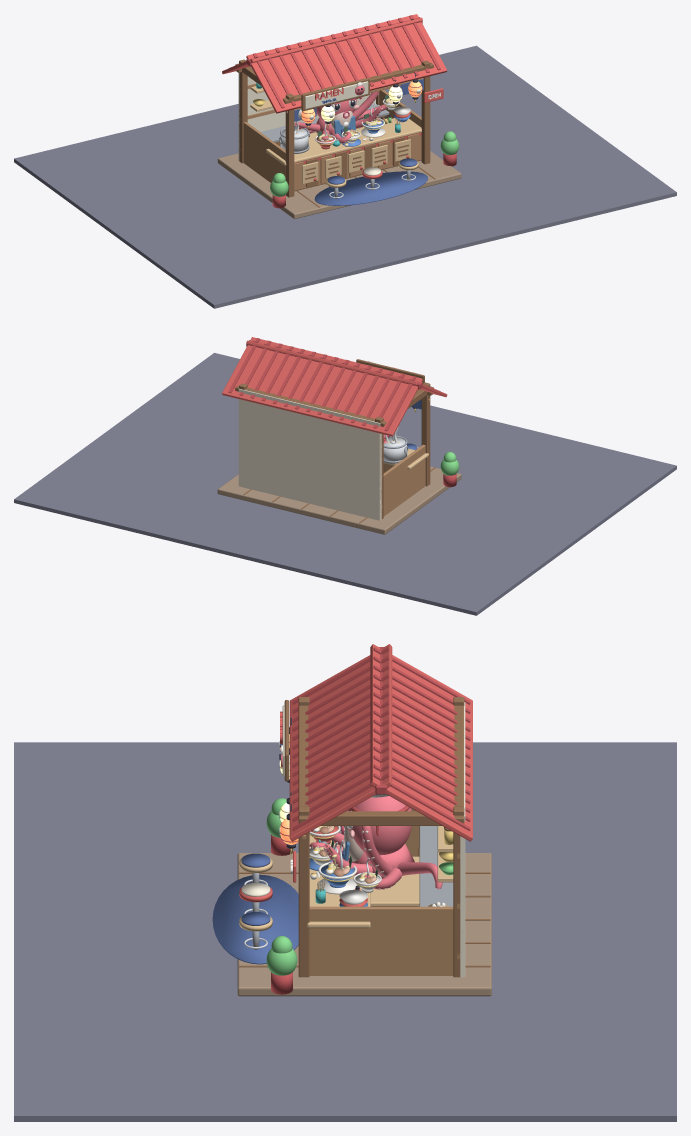
The model's file is octopus_ramen_booth.glb.
The picture shows the model from 3 angles, top to bottom: view 1: azimuth 30°, elevation 25°; view 2: azimuth 150°, elevation 25°; view 3: azimuth 270°, elevation 25°; orthographic projection. The views are drawn at different scales.
Parts seen in each view (by area): view 1: Ground, RoofFront, Platform, FrontMat, SideWallL, CounterTop, BackWall, RoofBack, Post0, Post1, SignFace, Post2 (+2 smaller); view 2: Ground, BackWall, RoofBack, Platform, SideWallL, RoofFront, Post0, BeamBack, PotBody; view 3: Ground, SideWallR, Platform, RoofFront, RoofBack, FrontMat, Post1, OctoHead, BenchTop, BeamR, ChefPlatformTop, Post3 (+4 smaller).
Part boxes in pixels (x1,y1,x2,y2): Ground: [14, 45, 676, 308]; RoofFront: [246, 14, 447, 113]; Platform: [217, 151, 461, 219]; FrontMat: [314, 171, 427, 205]; SideWallL: [243, 122, 285, 182]; CounterTop: [266, 118, 421, 165]; BackWall: [238, 73, 375, 160]; RoofBack: [222, 17, 422, 74]; Post0: [285, 94, 294, 197]; Post1: [421, 60, 430, 164]; SignFace: [305, 81, 368, 109]; Post2: [239, 59, 247, 163]; Ground: [14, 353, 676, 615]; BackWall: [238, 388, 381, 520]; RoofBack: [222, 337, 422, 436]; Platform: [217, 466, 461, 534]; SideWallL: [383, 444, 425, 516]; RoofFront: [246, 340, 447, 396]; Post0: [421, 382, 430, 486]; BeamBack: [235, 385, 386, 426]; PotBody: [383, 437, 406, 461]; Ground: [14, 742, 676, 1121]; SideWallR: [309, 906, 453, 975]; Platform: [237, 853, 491, 996]; RoofFront: [289, 644, 392, 841]; RoofBack: [370, 644, 472, 841]; FrontMat: [212, 874, 298, 964]; Post1: [298, 806, 309, 977]; OctoHead: [348, 796, 411, 855]; BenchTop: [419, 826, 453, 906]; BeamR: [321, 811, 441, 825]; ChefPlatformTop: [370, 856, 419, 906]; Post3: [453, 806, 464, 977].
Size of the model in its own units: 16 by 4.47 by 12.
